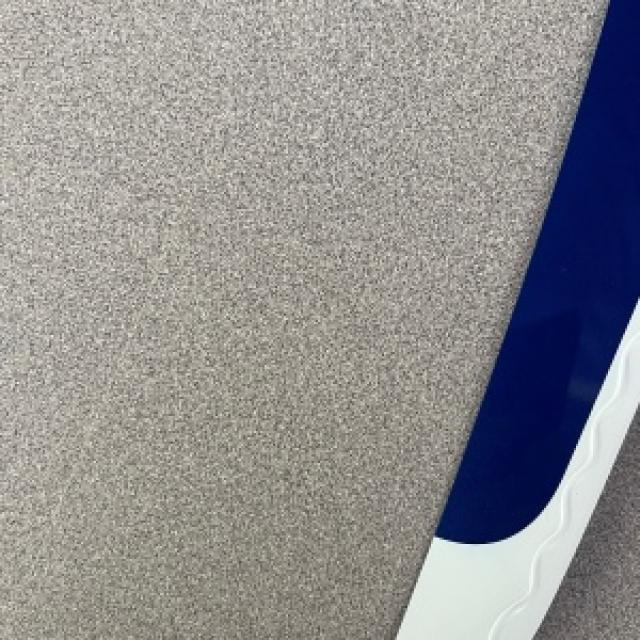healthy: (0, 0, 602, 638), (397, 0, 638, 638)
